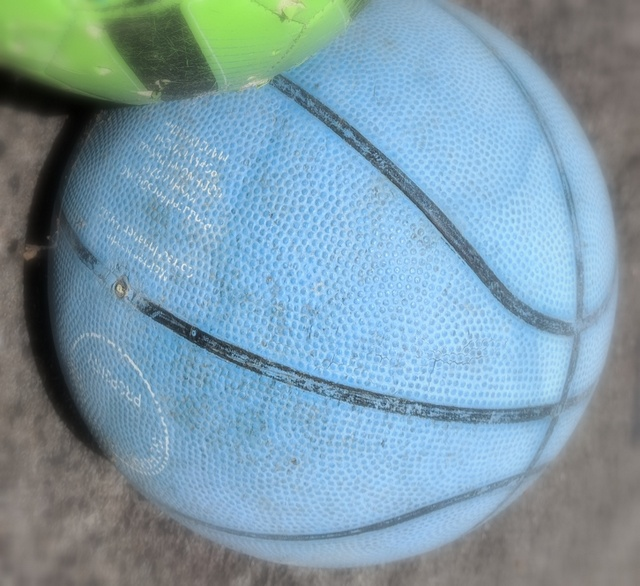ball: (51, 10, 620, 568)
